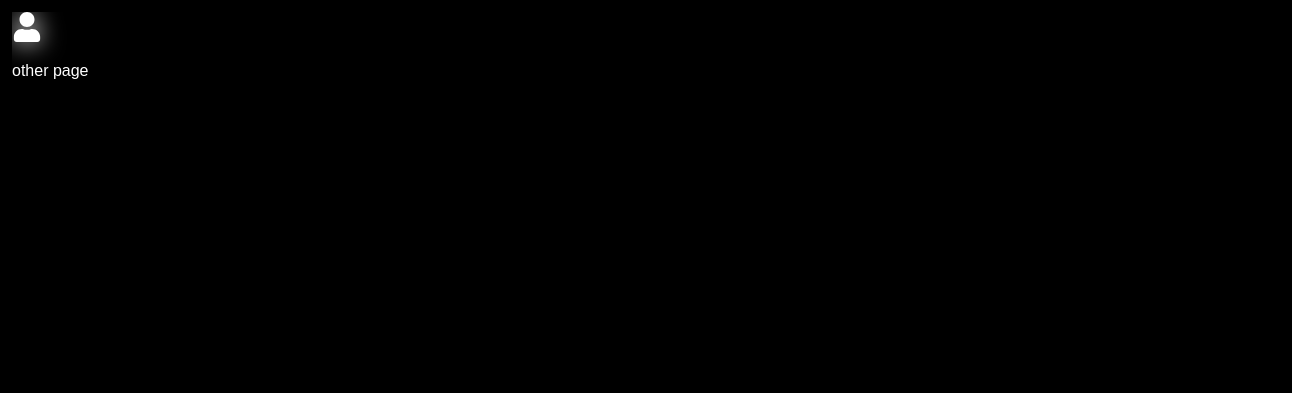
Test: ProfileMenu › opens a menu with the user's name and closes on Escape
Click the button named "Меню профиля neo".
click(27, 28)  # box [12,12,42,45]
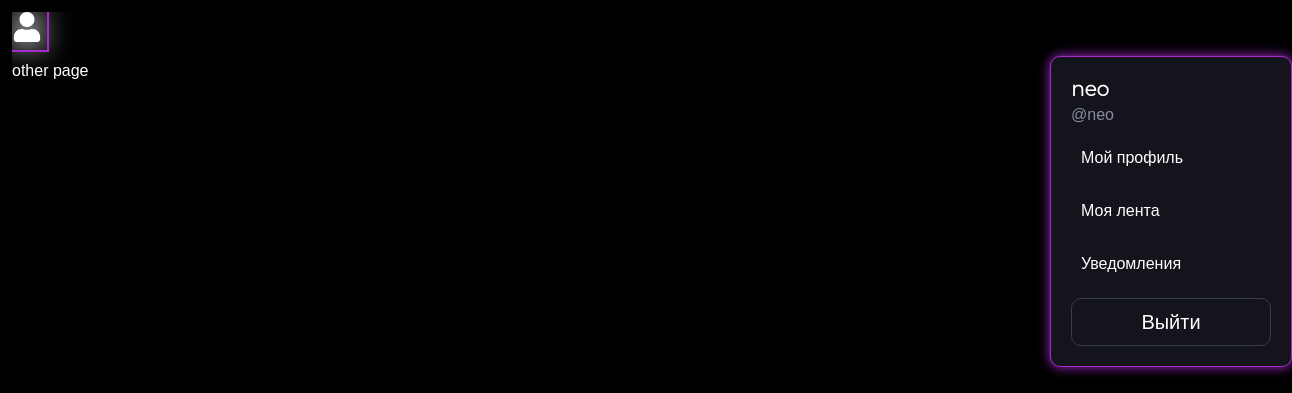
Result: the menu shows "@neo" at [1050,56,1291,367]
Press Escape
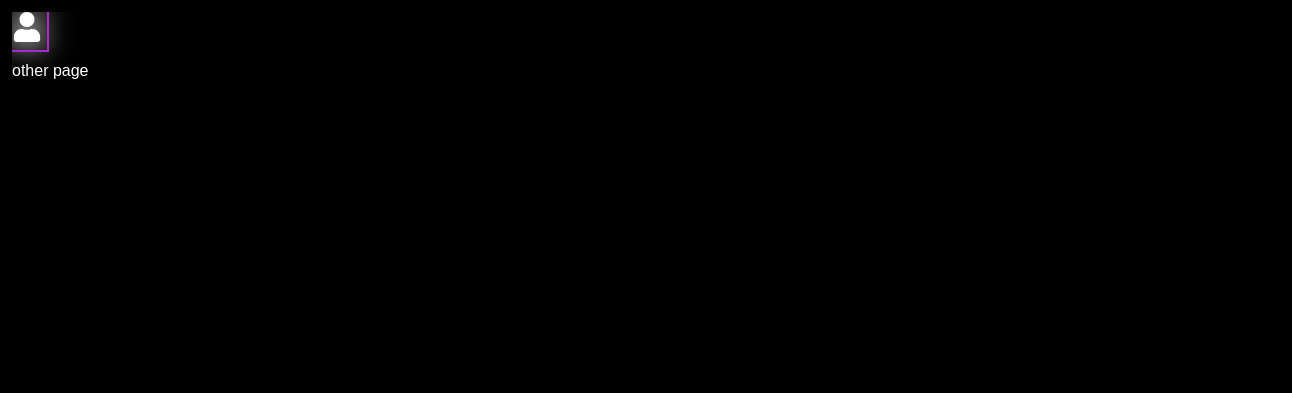
Result: the menu is gone
